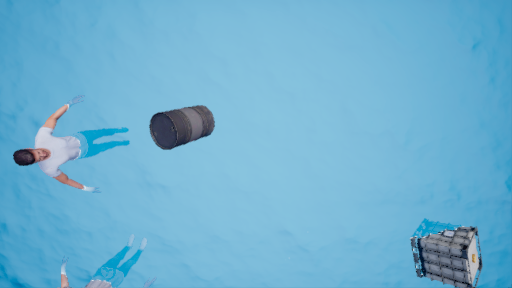person: (24, 95, 125, 188), (51, 239, 155, 285)
